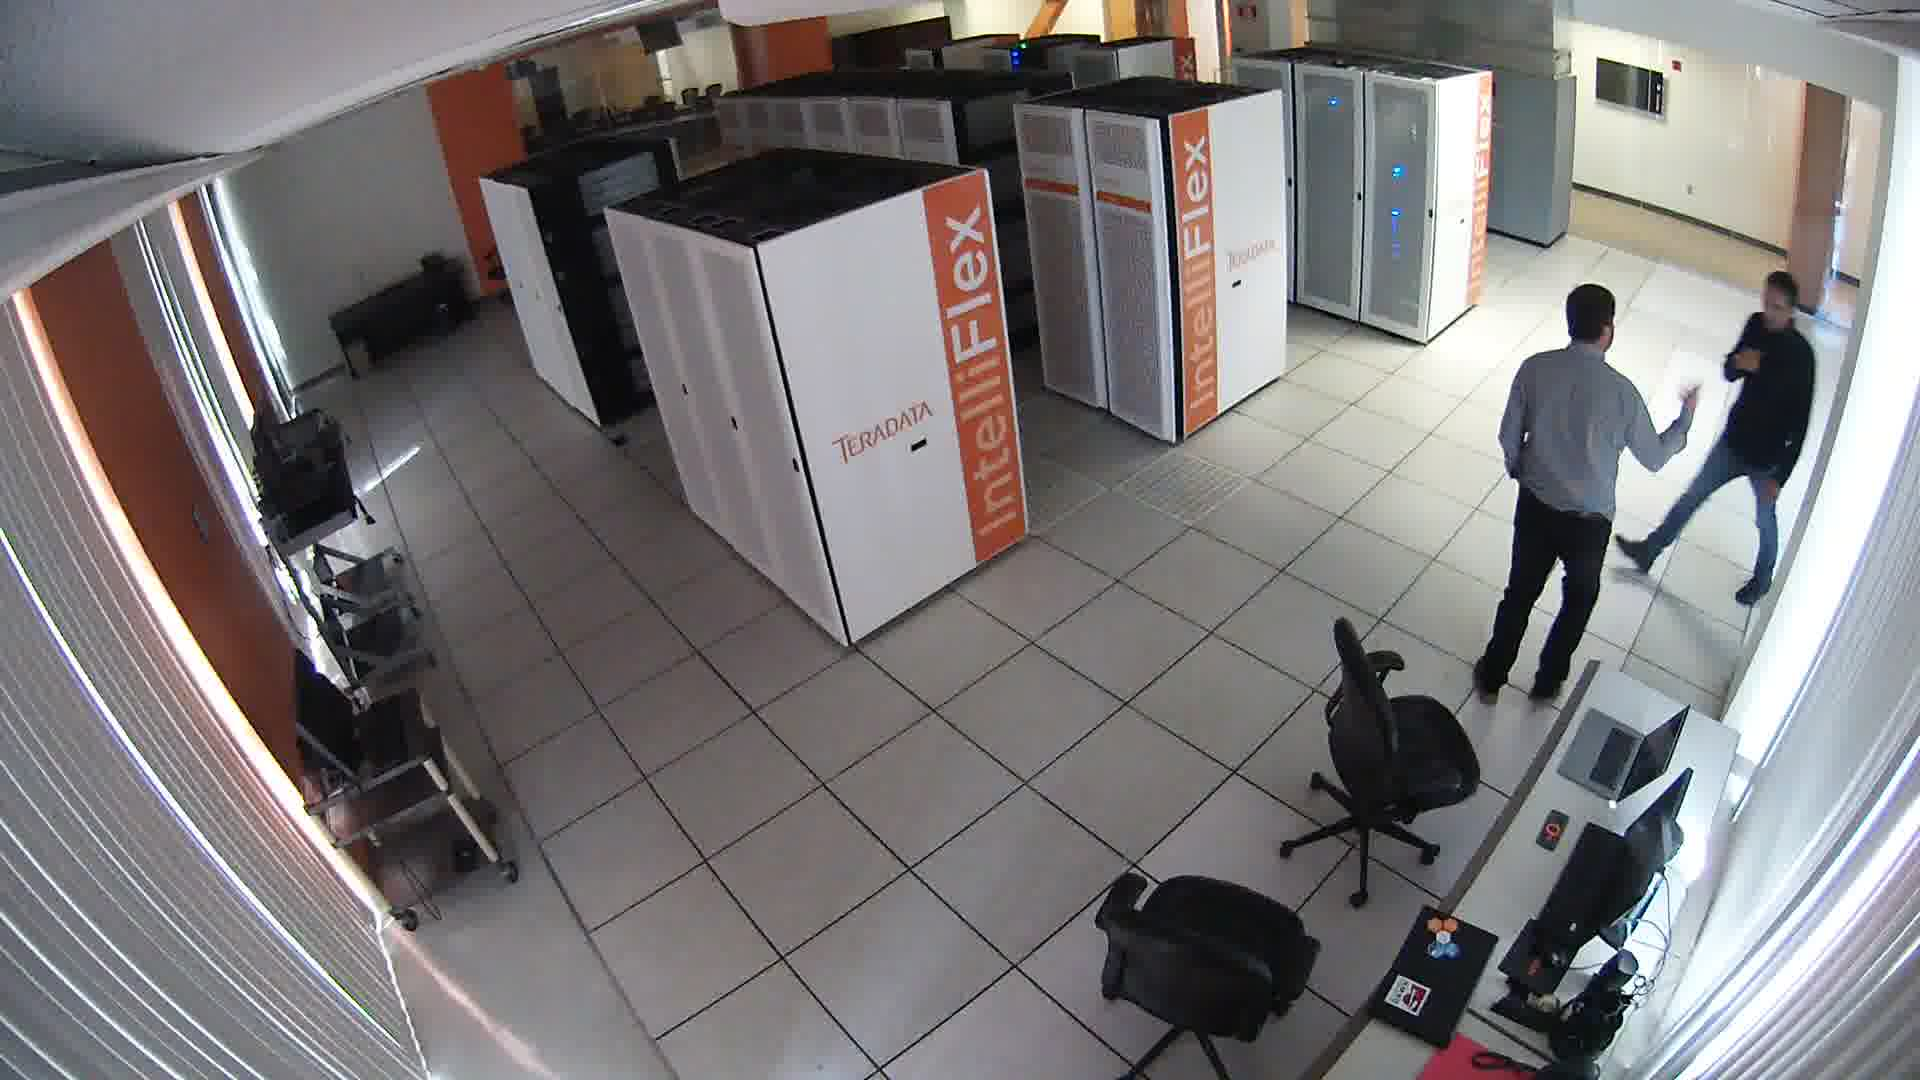person: (1481, 277, 1711, 730), (1671, 243, 1817, 619)
